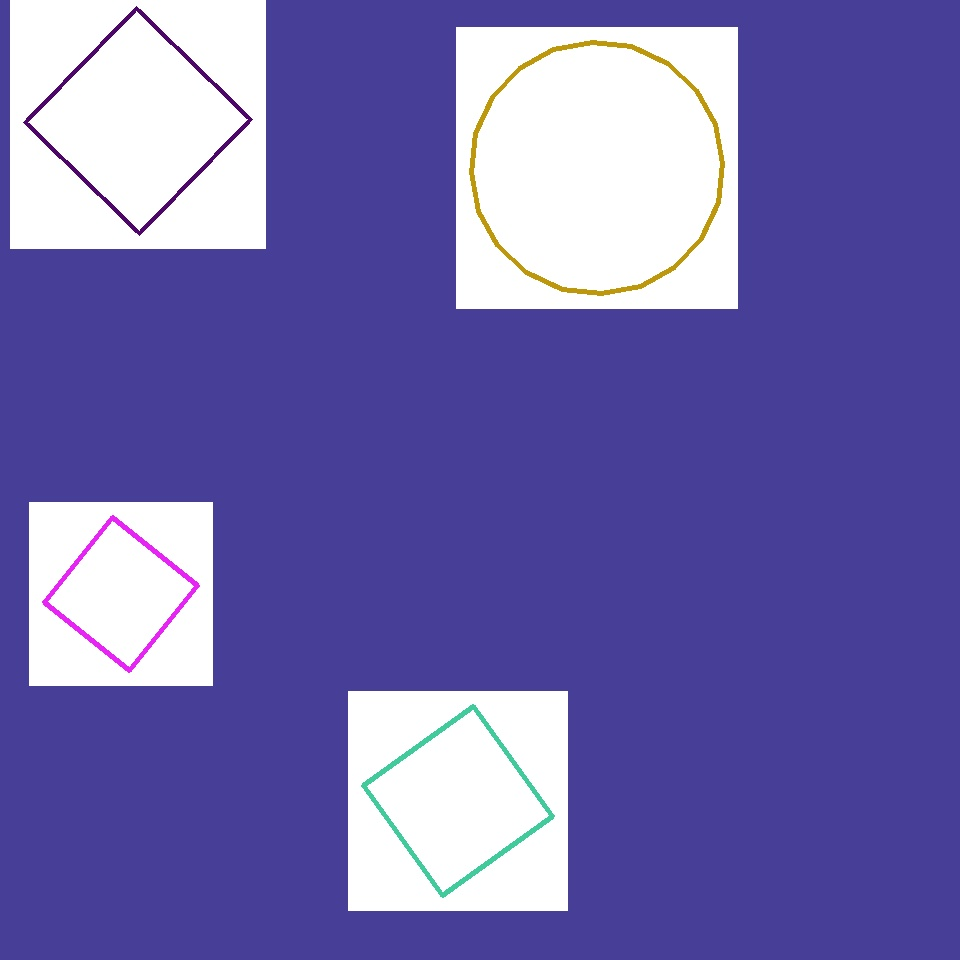circle: (544, 627, 824, 875), (490, 174, 722, 412), (476, 152, 686, 380)
square: (25, 8, 250, 234), (377, 477, 590, 690), (364, 706, 552, 895), (44, 518, 198, 670)
triangle: (471, 42, 722, 294), (604, 150, 850, 396)
